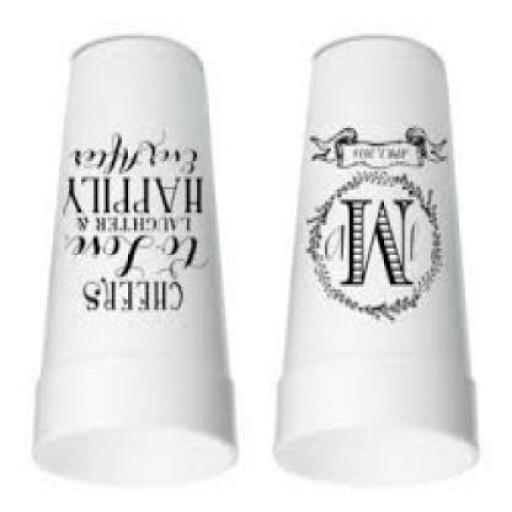paper: (37, 41, 240, 486), (278, 41, 480, 481)
